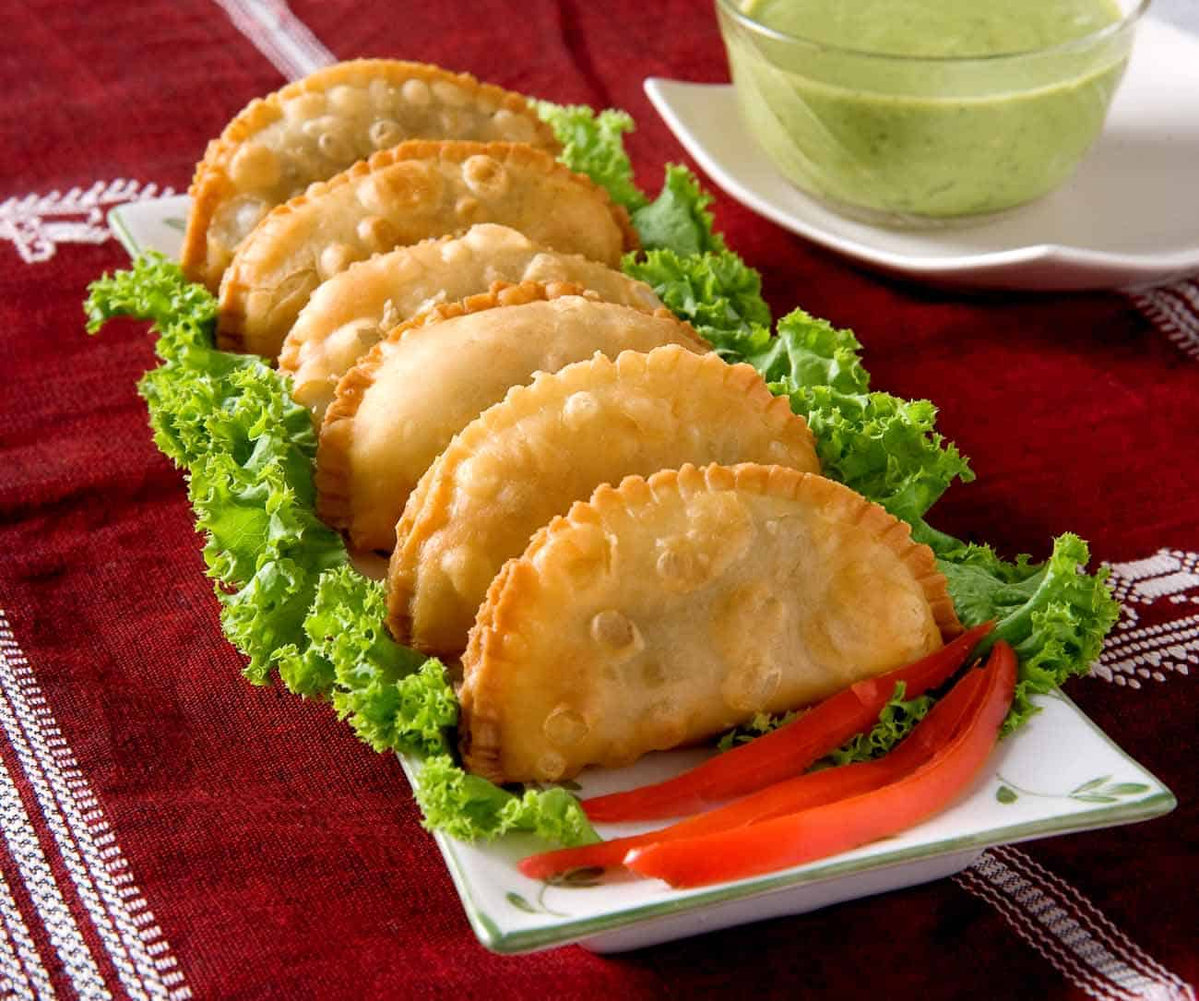samosa: (459, 475, 1021, 784), (189, 65, 581, 277), (392, 344, 842, 464), (314, 281, 740, 341)
